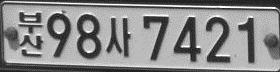1: (236, 17, 262, 63)
2: (205, 16, 231, 63)
4: (173, 15, 201, 62)
7: (142, 15, 168, 61)
8: (75, 13, 101, 59)
9: (47, 12, 71, 57)
부산_V: (18, 11, 43, 57)
사: (105, 17, 131, 57)
